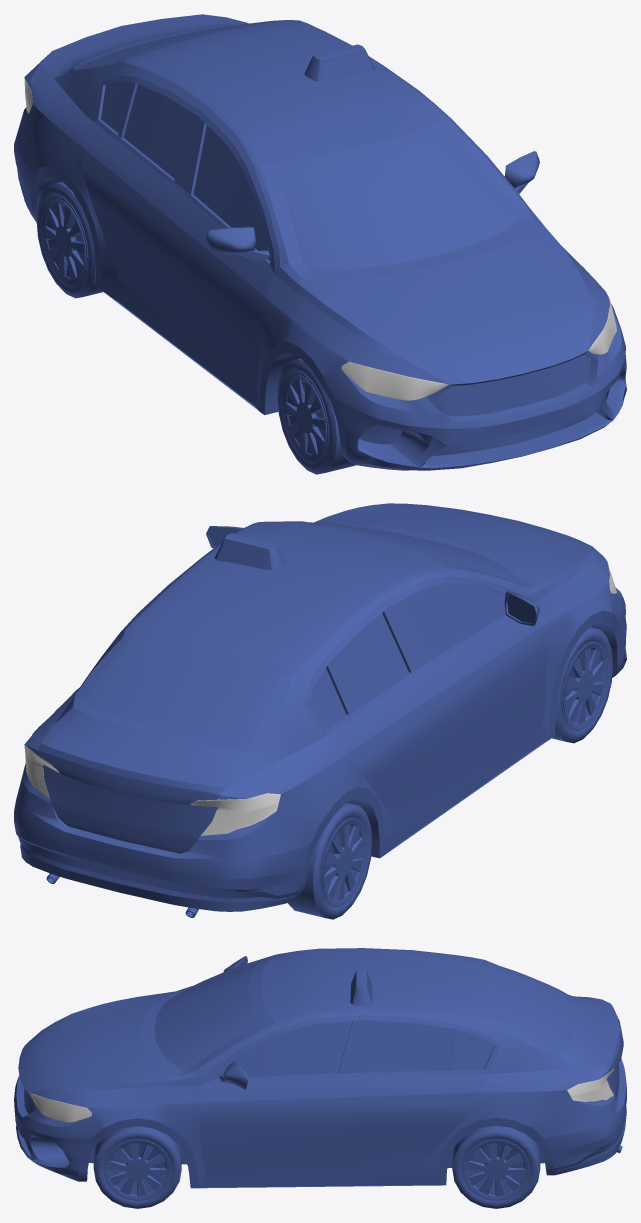
Rendered from taxi2.fbx.
3 renders of one model, top to bottom at view 1: azimuth 30°, elevation 25°; view 2: azimuth 150°, elevation 25°; view 3: azimuth 270°, elevation 25°, orthographic. The views are drawn at different scales.
Visible parts, largest first — view 1: pCube2, pCylinder2, pCylinder1; view 2: pCube2, pCylinder1, pCylinder2; view 3: pCube2, pCylinder4, pCylinder3.
Part boxes in pixels (x1,y1,x2,y2): pCube2: [14, 14, 626, 470]; pCylinder2: [277, 358, 355, 474]; pCylinder1: [36, 181, 102, 298]; pCube2: [14, 503, 626, 917]; pCylinder1: [288, 802, 372, 919]; pCylinder2: [552, 627, 613, 743]; pCube2: [14, 948, 626, 1188]; pCylinder4: [452, 1125, 540, 1208]; pCylinder3: [93, 1126, 181, 1208].
Size of the model in its own units: 20.07 by 15.25 by 43.07.
